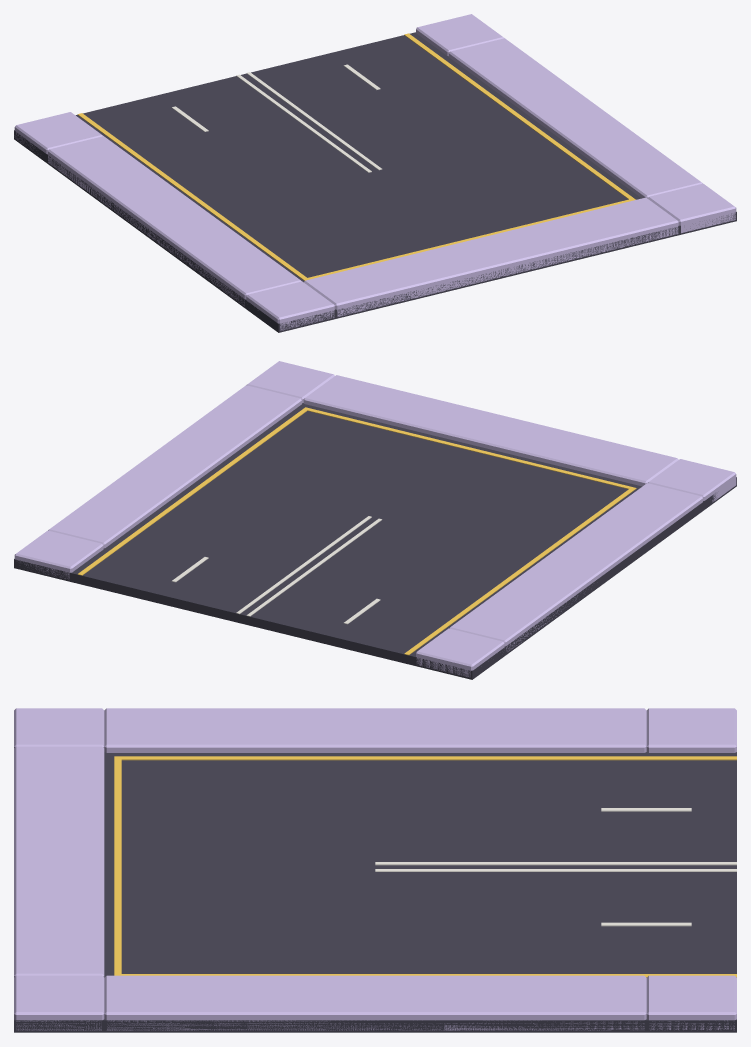
File: road_end.glb
3 renders of one model, top to bottom at view 1: azimuth 30°, elevation 25°; view 2: azimuth 150°, elevation 25°; view 3: azimuth 270°, elevation 25°, orthographic. The views are drawn at different scales.
Parts seen in each view (by area): view 1: road_end; view 2: road_end; view 3: road_end.
Part boxes in pixels (bbox=[...]): road_end: bbox=[14, 14, 736, 332]; road_end: bbox=[14, 361, 736, 679]; road_end: bbox=[14, 708, 736, 1032].
Bounding box in the file's own units: 16 × 0.48 × 16.
